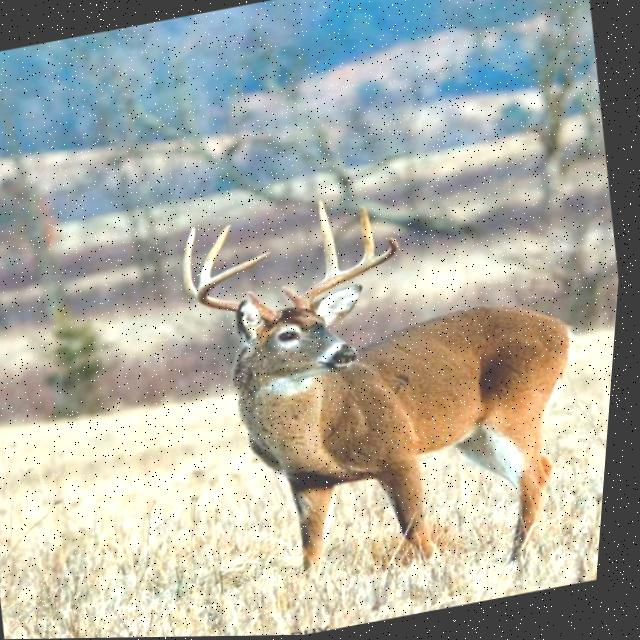L-F: (301, 238, 402, 310)
L-G1: (286, 286, 304, 303)
L-G2: (320, 199, 345, 279)
L-G3: (362, 205, 380, 260)
R-G1: (252, 291, 277, 320)
R-G2: (186, 227, 203, 303)
R-G3: (203, 224, 235, 286)
